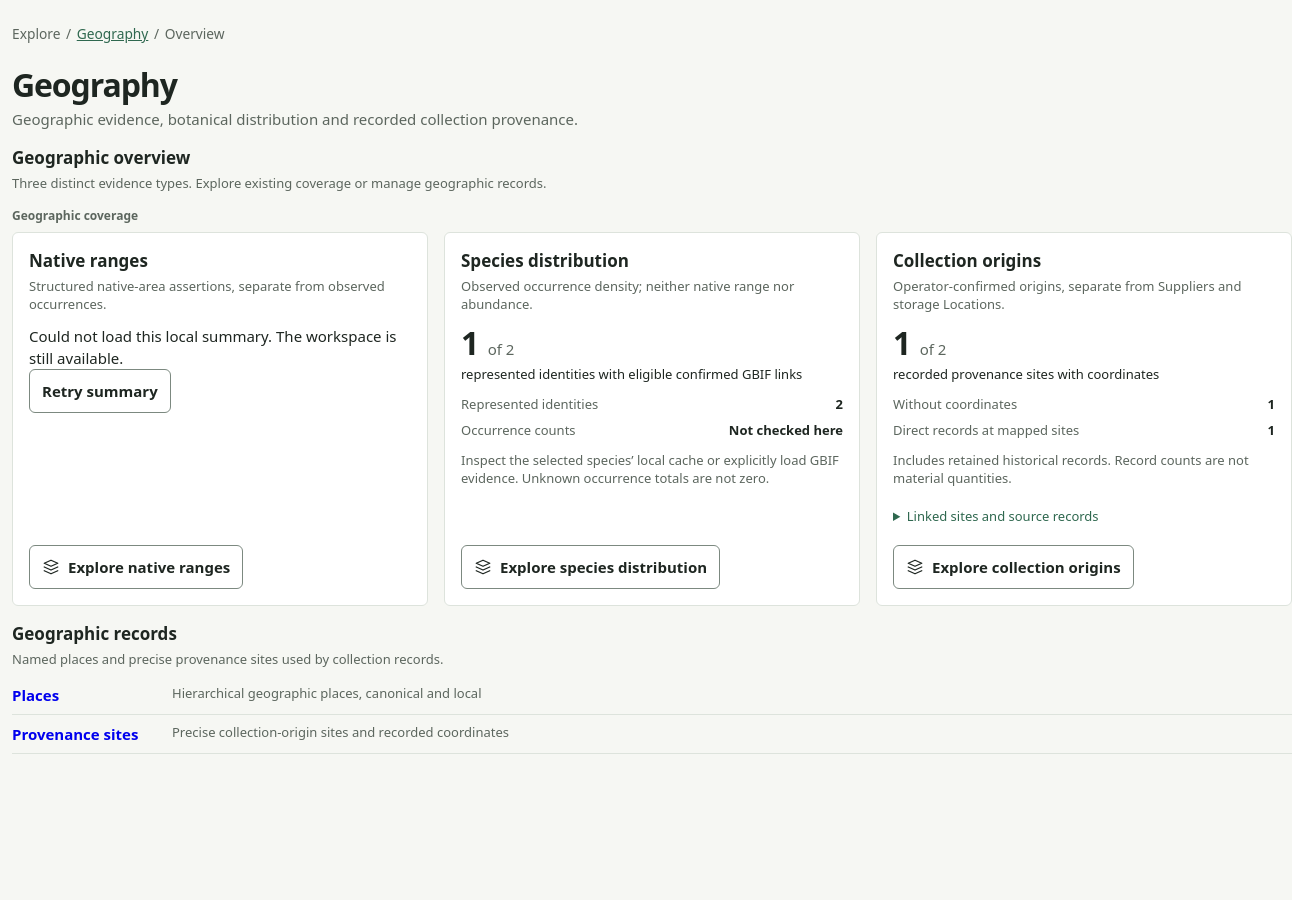
Test: a failed summary does not hide successful evidence or navigation and can retry
Expected: the message is shown, [29, 325, 411, 413]
Click the heading "Linked sites and source records" at (1003, 516), box [907, 507, 1099, 525]
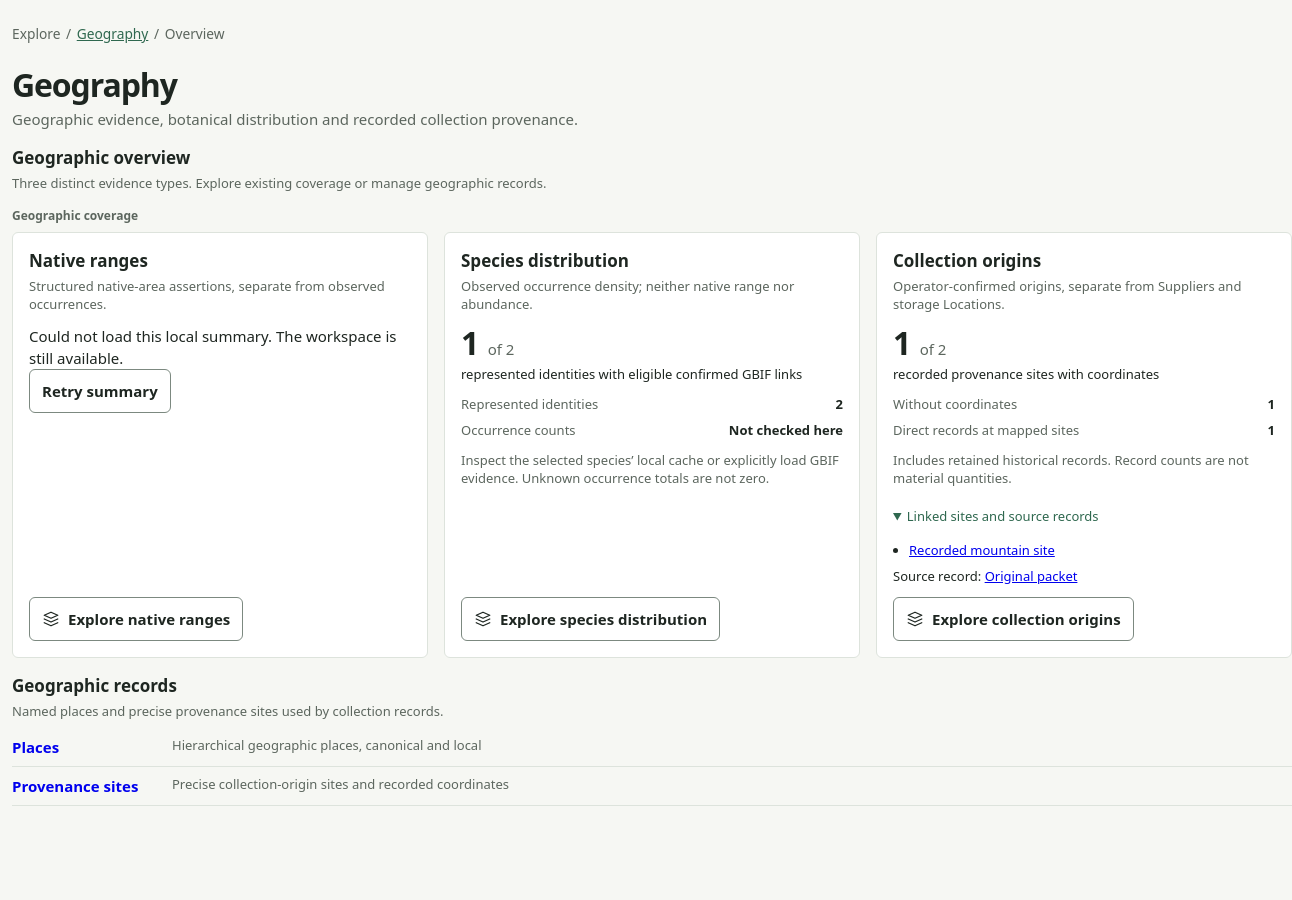
Expected: the link "Recorded mountain site" is shown, [909, 541, 1055, 559]
Click the button "Retry summary" at (100, 391), box [29, 369, 171, 413]
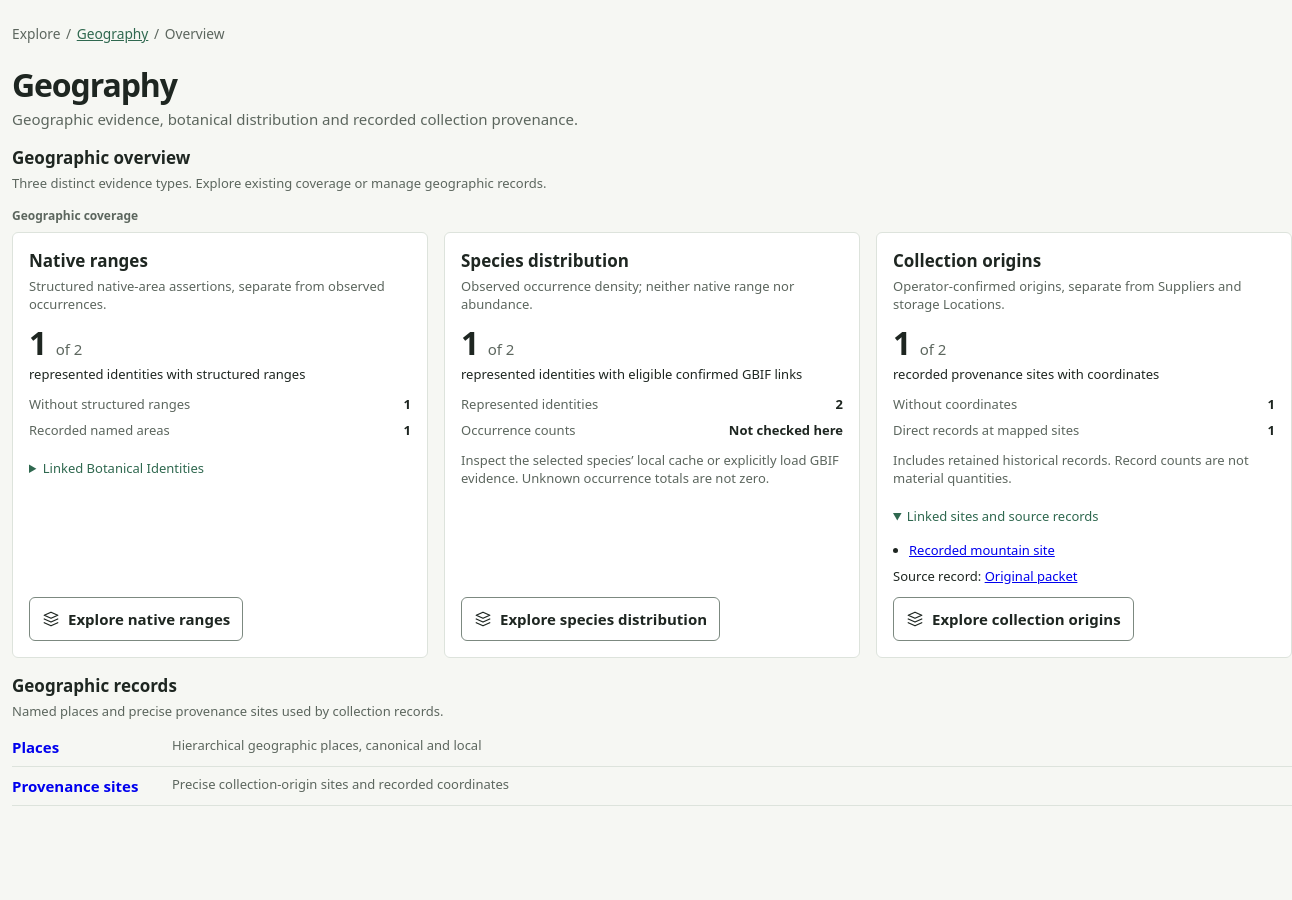
Expected: the element "Native ranges" shows "represented identities with structured ranges", [29, 365, 305, 383]
Expected: the message is gone
